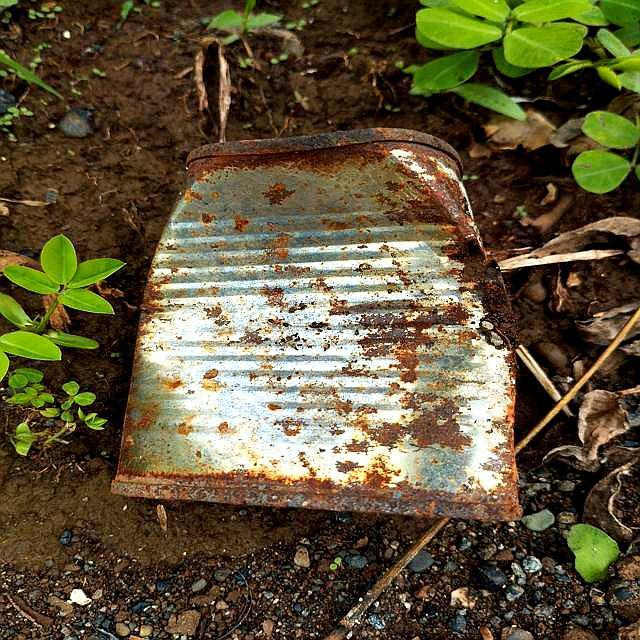Non-biodegradable: (110, 126, 524, 524)
